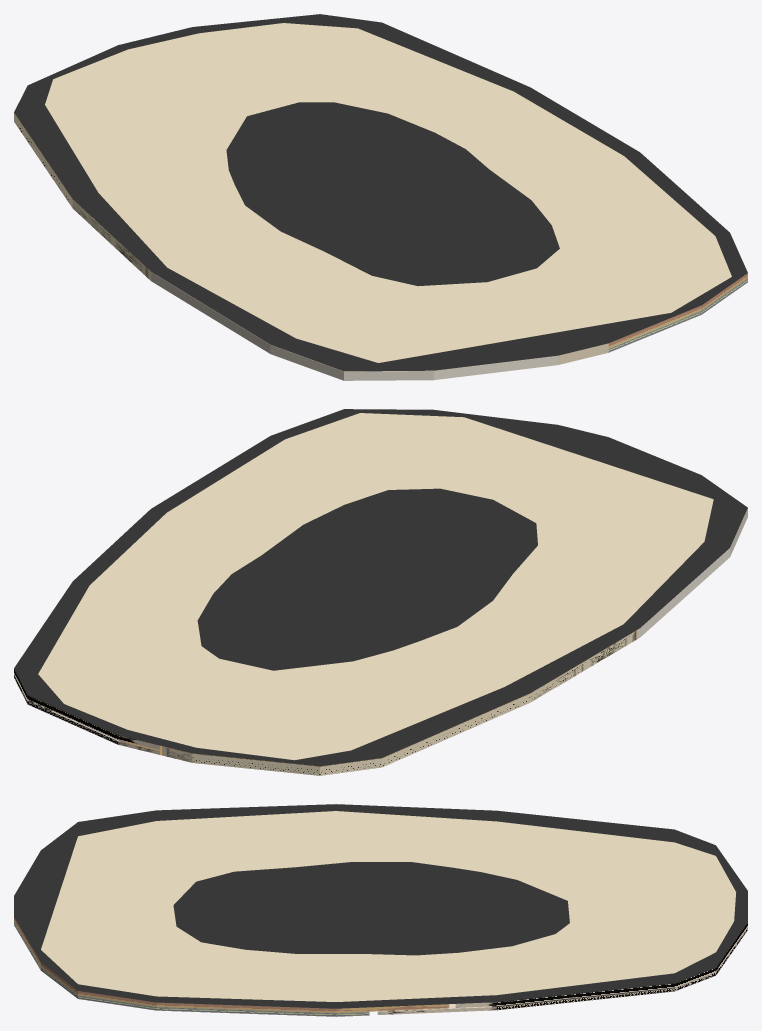
The model's file is eyeSticker.fbx.
3 renders of one model, top to bottom at view 1: azimuth 30°, elevation 25°; view 2: azimuth 150°, elevation 25°; view 3: azimuth 270°, elevation 25°, orthographic. The views are drawn at different scales.
Parts seen in each view (by area): view 1: Cube; view 2: Cube; view 3: Cube.
Boxes of the visible parts, box(x1,y1,x2,y2) form: Cube: box(14, 14, 747, 380); Cube: box(14, 409, 747, 775); Cube: box(14, 804, 747, 1016).
Size of the model in its own units: 214 by 3.94 by 324.
